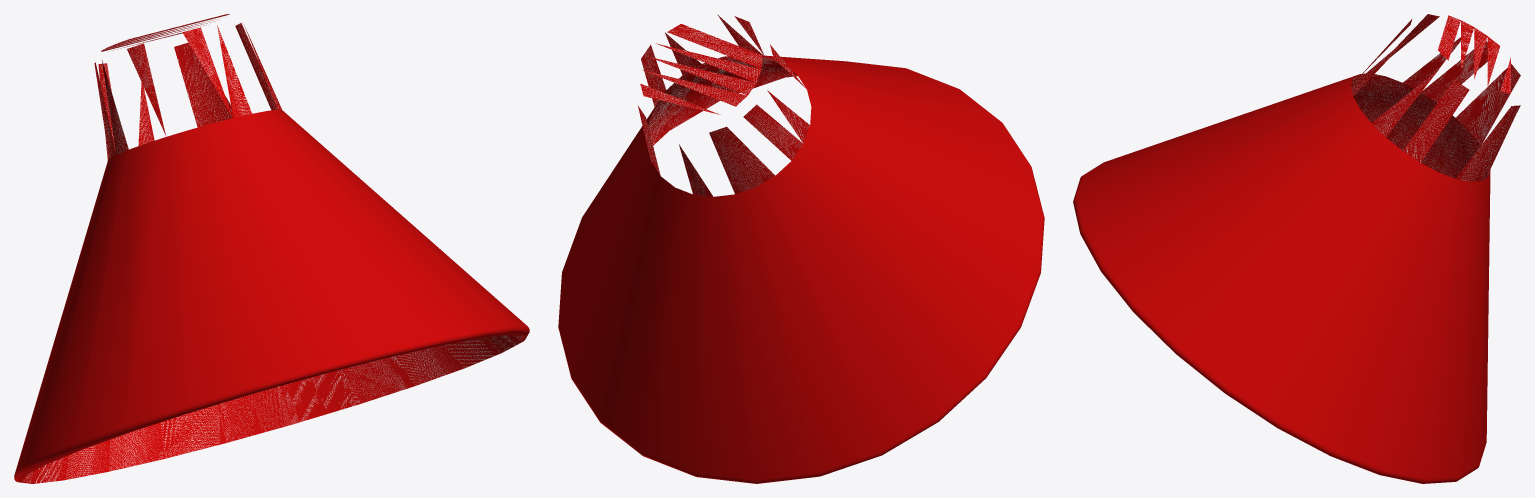
The picture shows the model from 3 angles, left to right: view 1: azimuth 30°, elevation 25°; view 2: azimuth 150°, elevation 25°; view 3: azimuth 270°, elevation 25°; orthographic projection. The views are drawn at different scales.
Size of the model in its own units: 0.5621 by 0.531 by 0.511.
